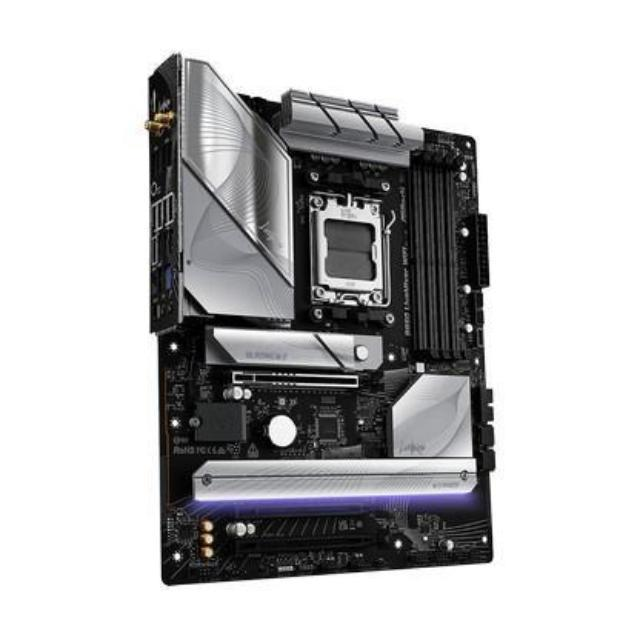Mainboard: (130, 47, 505, 599)
